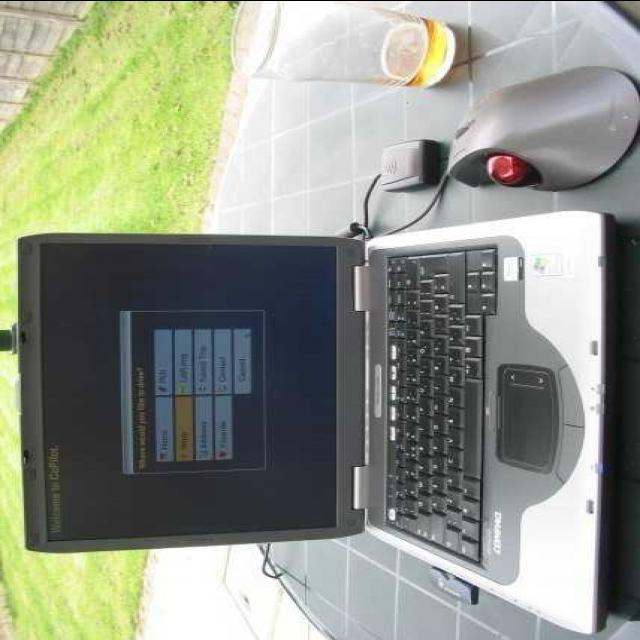laptop: (70, 172, 598, 640)
